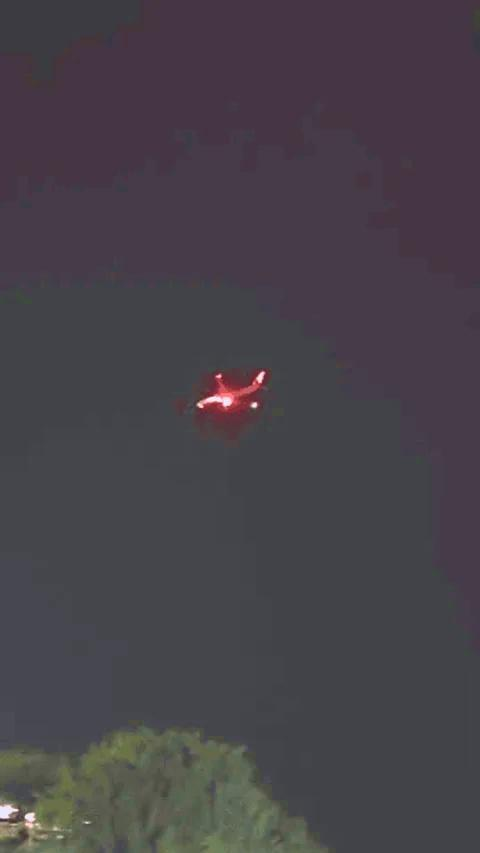Plane: (167, 327, 295, 468)
